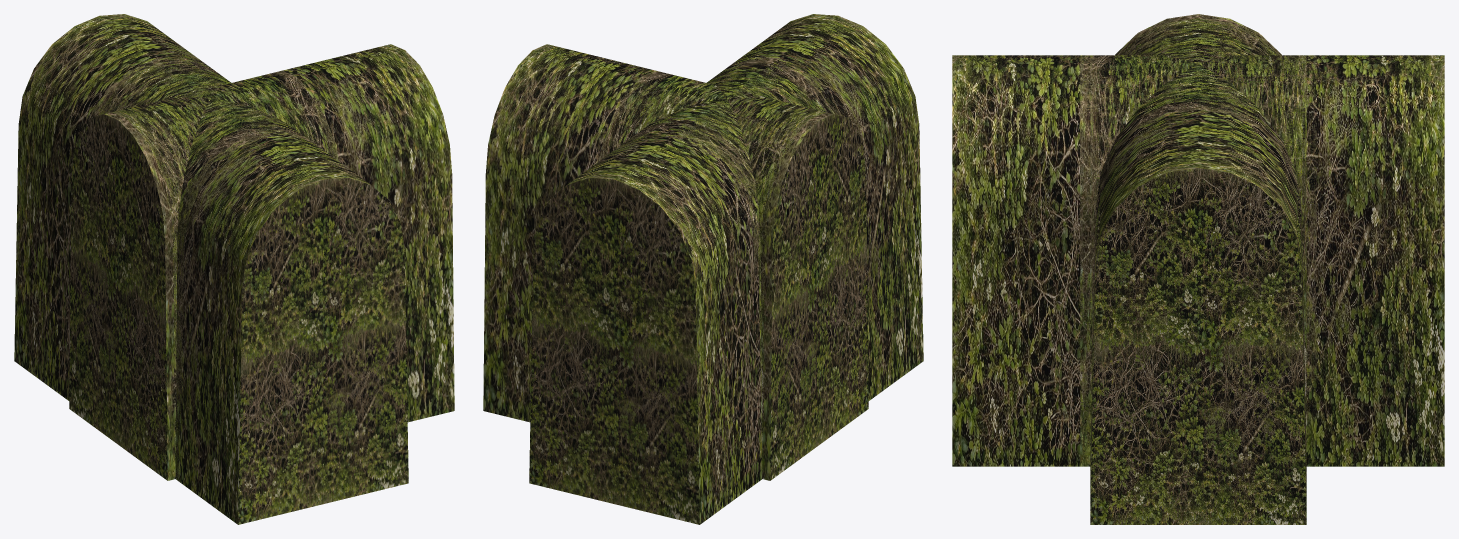
File: hedge_t.glb
3 renders of one model, left to right at view 1: azimuth 30°, elevation 25°; view 2: azimuth 150°, elevation 25°; view 3: azimuth 270°, elevation 25°, orthographic. The views are drawn at different scales.
Bounding box in the file's own units: 0.74 × 0.8 × 1.
1 material, 1 textured.
